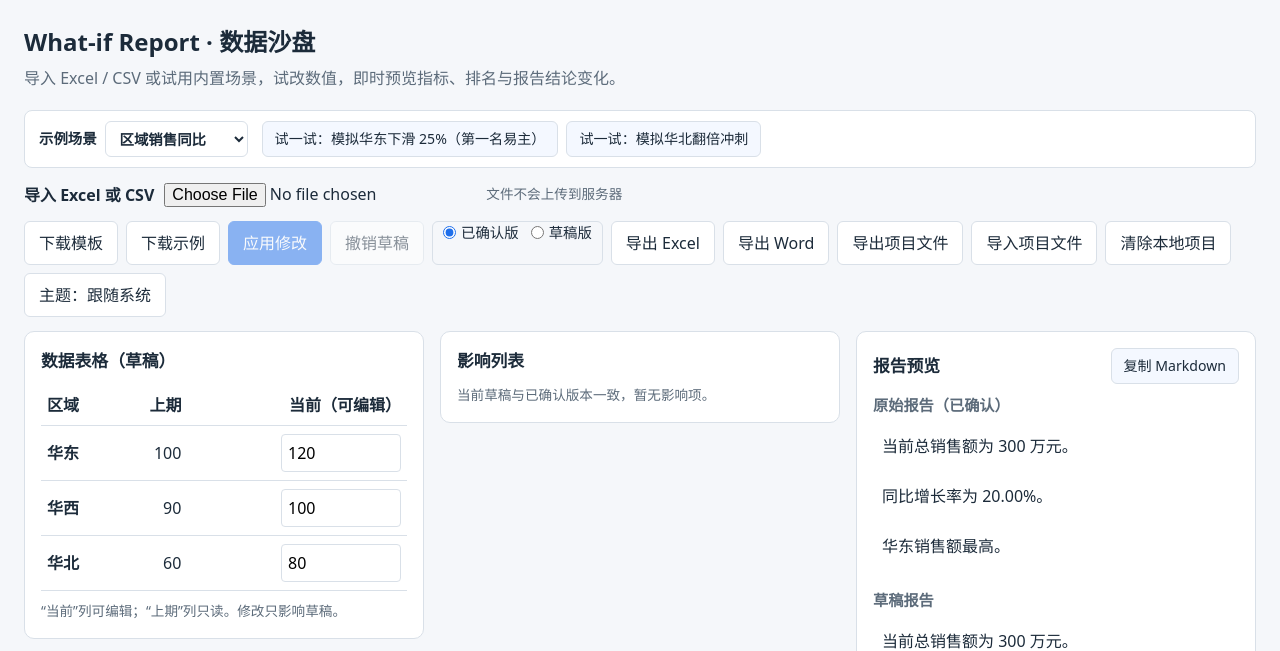
Test: export uses the confirmed baseline › warns about the pending draft and exports baseline for both formats
Later steps or results of the test are not shown.
Replace the text in the number field named "华东当前销售额" with "90": {"x": 341, "y": 453} [281,434,401,472]
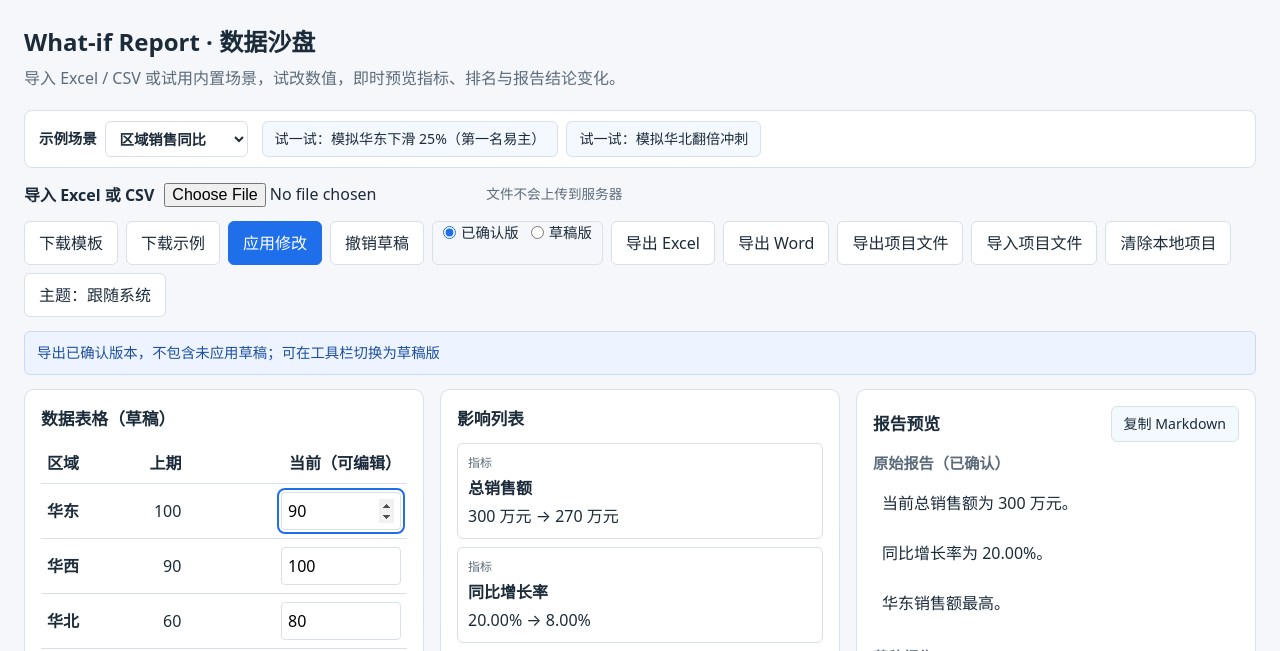
Now the text "导出已确认版本，不包含未应用草稿；可在工具栏切换为草稿版" is shown, box [24,331,1256,375]
